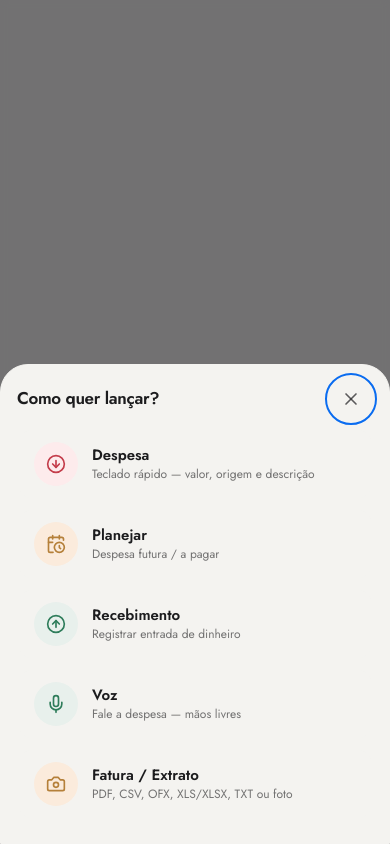
#659 MobileLaunchSheetContainer — Carteira reachability (RED) › erro: distinto do vazio — alerta explícito, sem CTAs de zero contas
The image size is (390, 844).
Step 1. Click the button "Fatura / Extrato PDF, CSV, OFX, XLS/XLSX, TXT ou foto" → coordinates (195, 784), box [17,749,373,819]
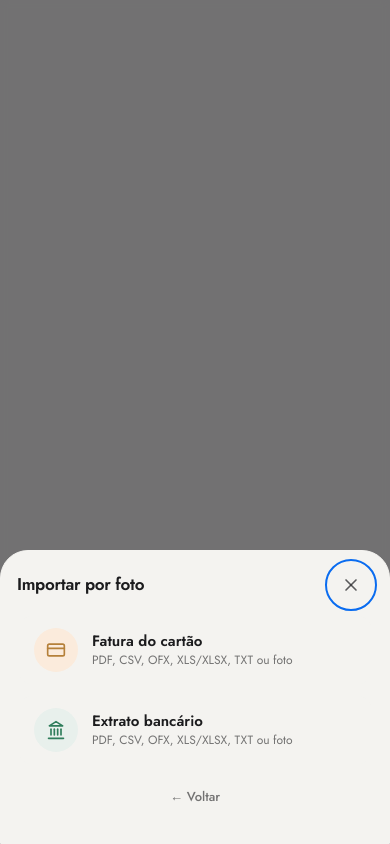
Step 2. Click the button "Extrato bancário PDF, CSV, OFX, XLS/XLSX, TXT ou foto" → coordinates (195, 730), box [17,695,373,765]
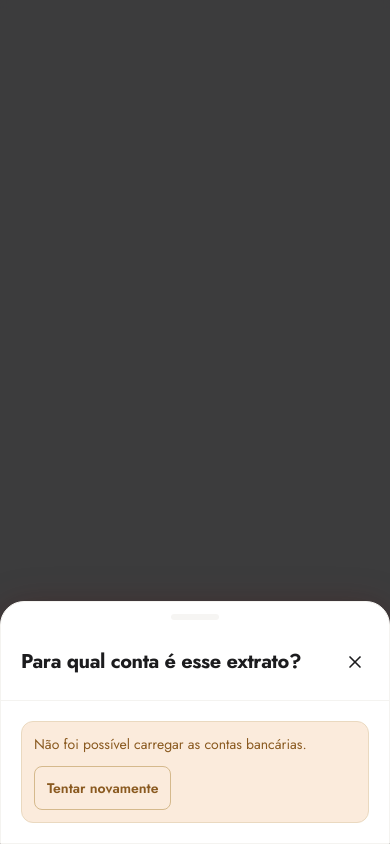
Result: the message "Não foi possível carregar as contas bancárias. Tentar novamente" is shown at [21,721,369,823]
